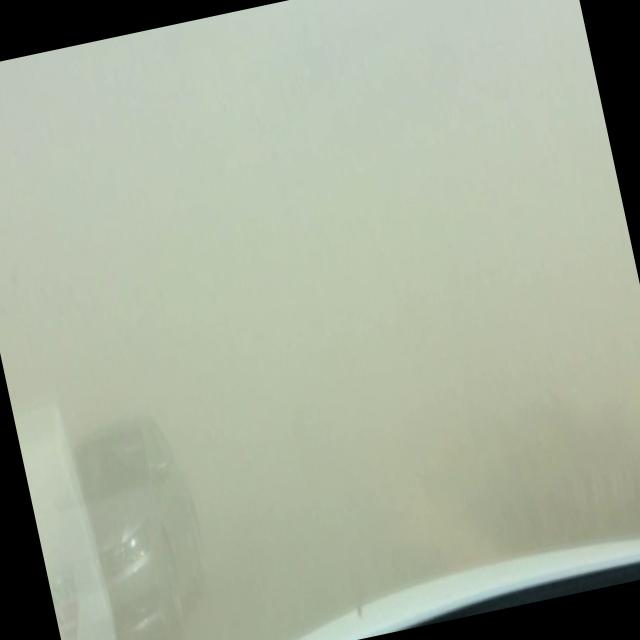car: (49, 398, 219, 640)
